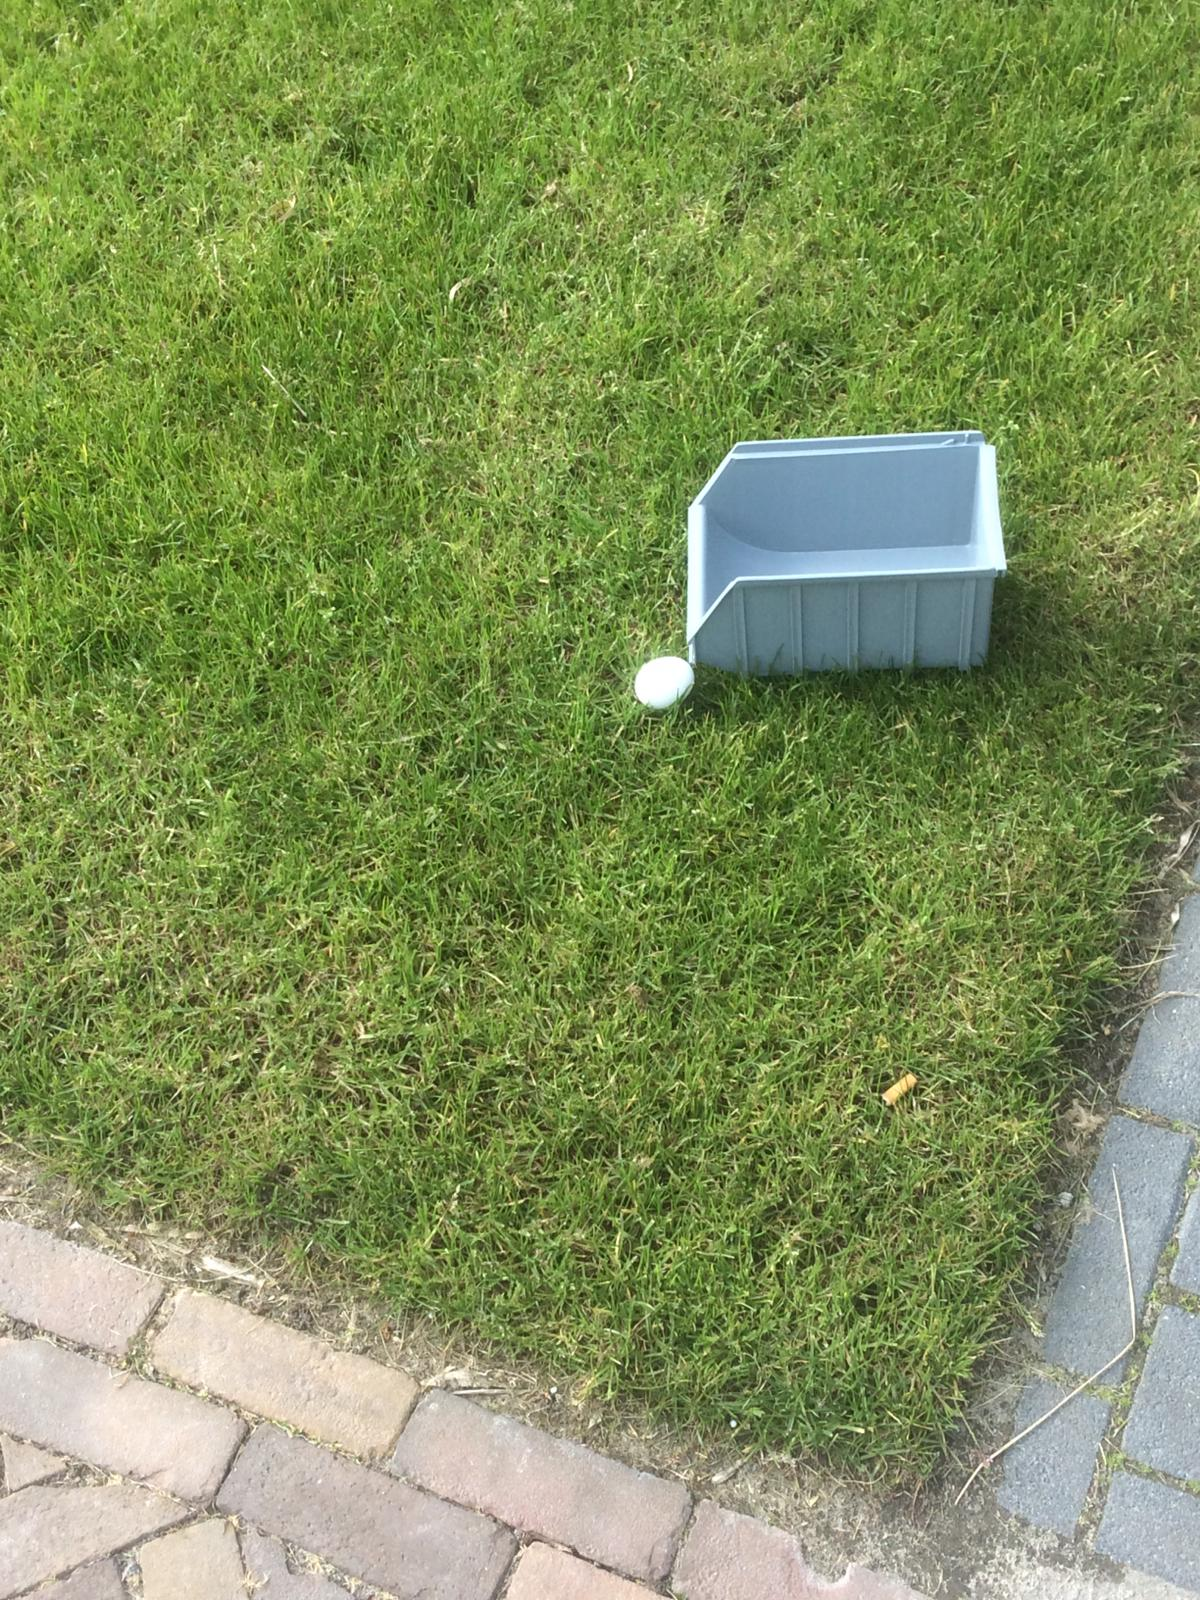egg: (619, 648, 700, 716)
tray: (686, 430, 1003, 694)
